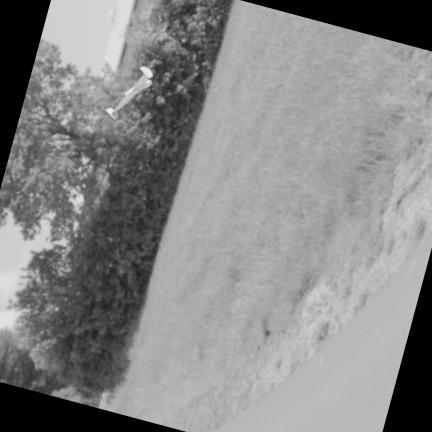Shahed: (106, 66, 151, 117)
